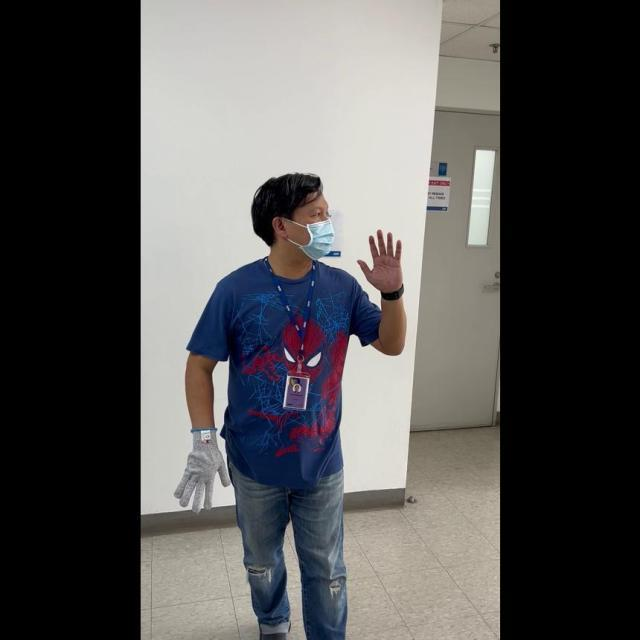bare_hand: (356, 224, 405, 295)
gloved_hand: (173, 424, 231, 512)
